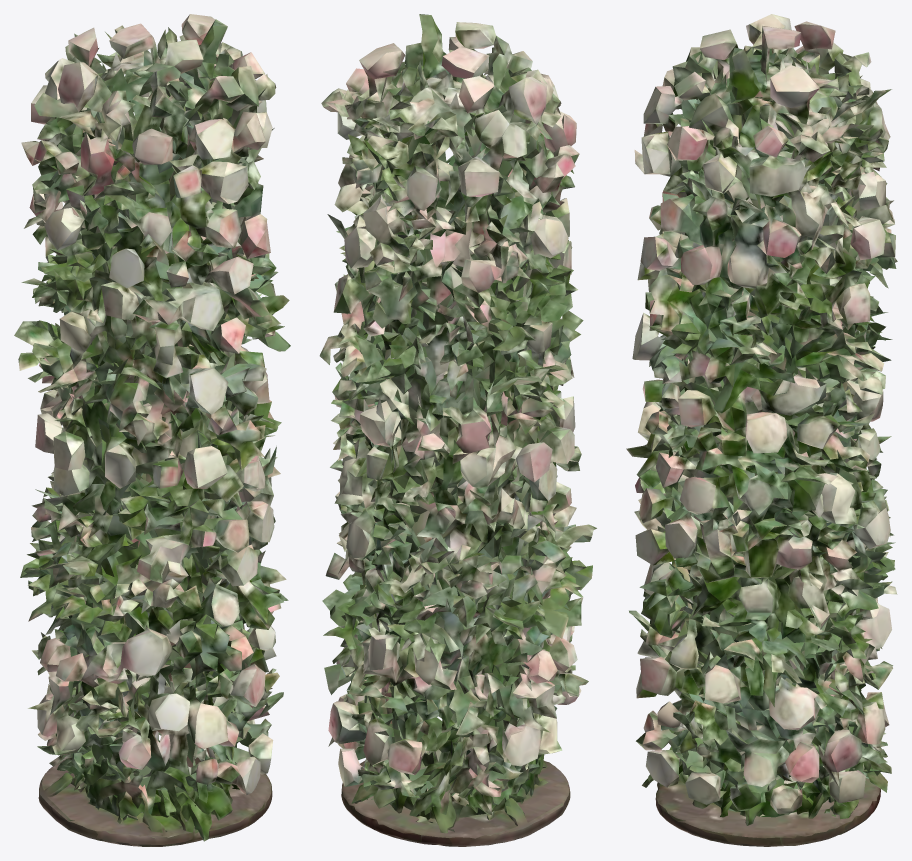
The model's file is aholo-20261119-floral-aisle-pillar.glb.
The picture shows the model from 3 angles, left to right: view 1: azimuth 30°, elevation 25°; view 2: azimuth 150°, elevation 25°; view 3: azimuth 270°, elevation 25°; orthographic projection.
Parts seen in each view (by area): view 1: geometry_0; view 2: geometry_0; view 3: geometry_0.
Boxes of the visible parts, x1,y1,x2,y2 form: geometry_0: [14, 14, 290, 846]; geometry_0: [319, 14, 596, 846]; geometry_0: [626, 14, 897, 846].
Bounding box in the file's own units: 0.6444 × 2 × 0.6378.
1 material, 1 textured.
